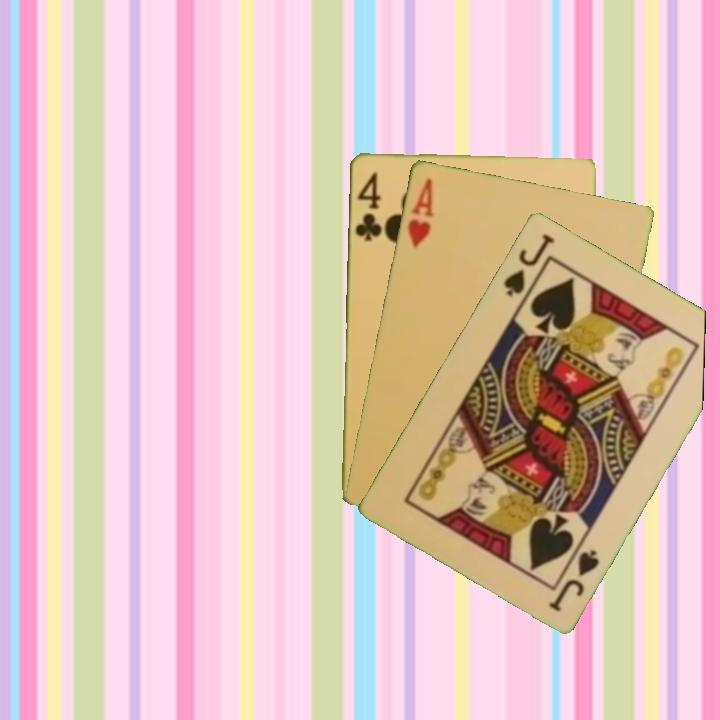4c: (352, 168, 385, 243)
Ah: (403, 174, 436, 250)
Js: (499, 229, 557, 299), (545, 545, 603, 614)
